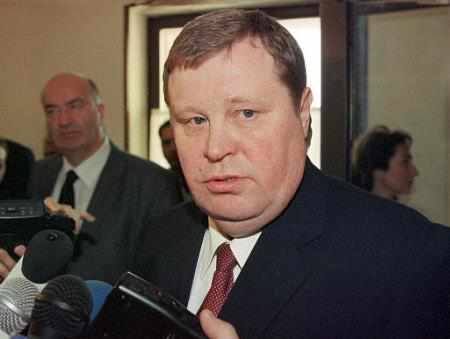Face: (161, 69, 313, 234), (39, 81, 103, 158), (383, 145, 422, 202)
